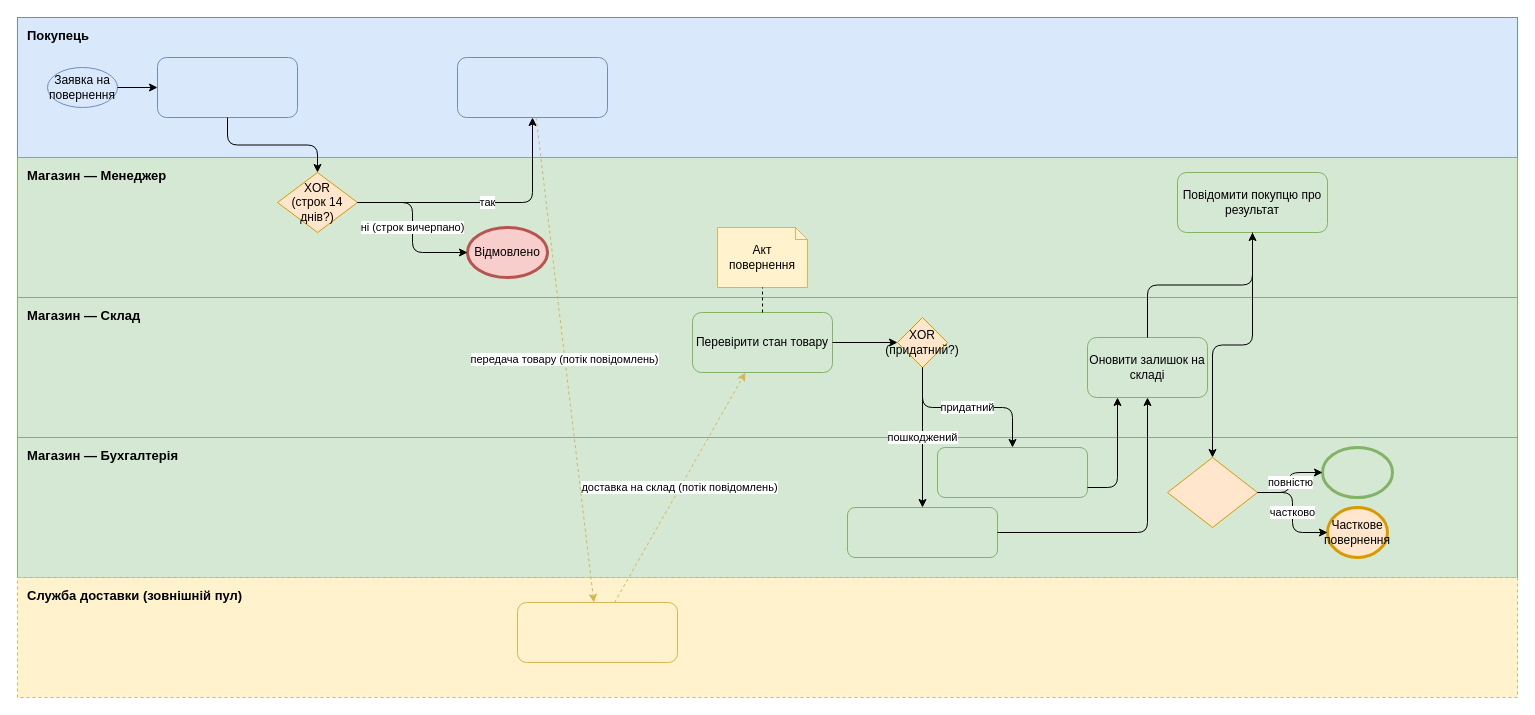
Some shapes in this 1535 by 715 pixel diagram are drawn without their labels. Each missing label, with the centre of its shape:
XOR (сума повернення): pixel 1212 492
Вказати номер замовлення й причину: pixel 227 87
Забрати товар у покупця й доставити на склад: pixel 597 632
Кошти повернуто: pixel 1357 472
Надіслати товар на склад: pixel 532 87
Повернути кошти повністю: pixel 1012 472
Утримати частину коштів за пошкодження: pixel 922 532
